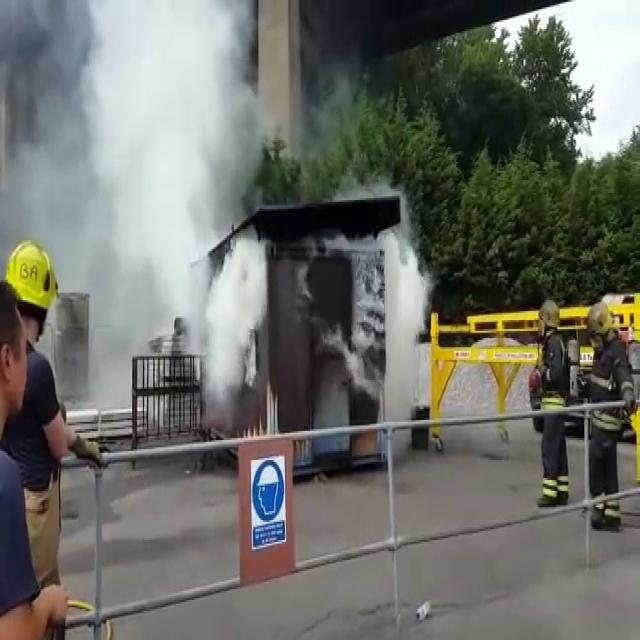Smoke: (104, 0, 264, 432), (365, 236, 444, 454)
